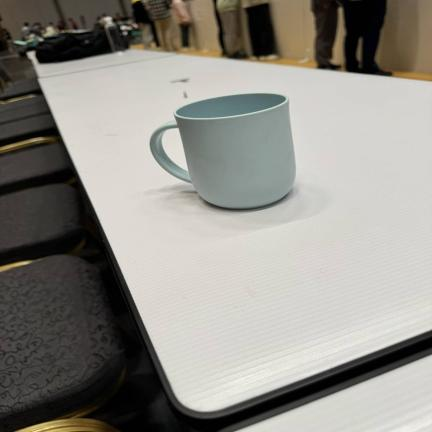cup: (150, 93, 295, 209)
